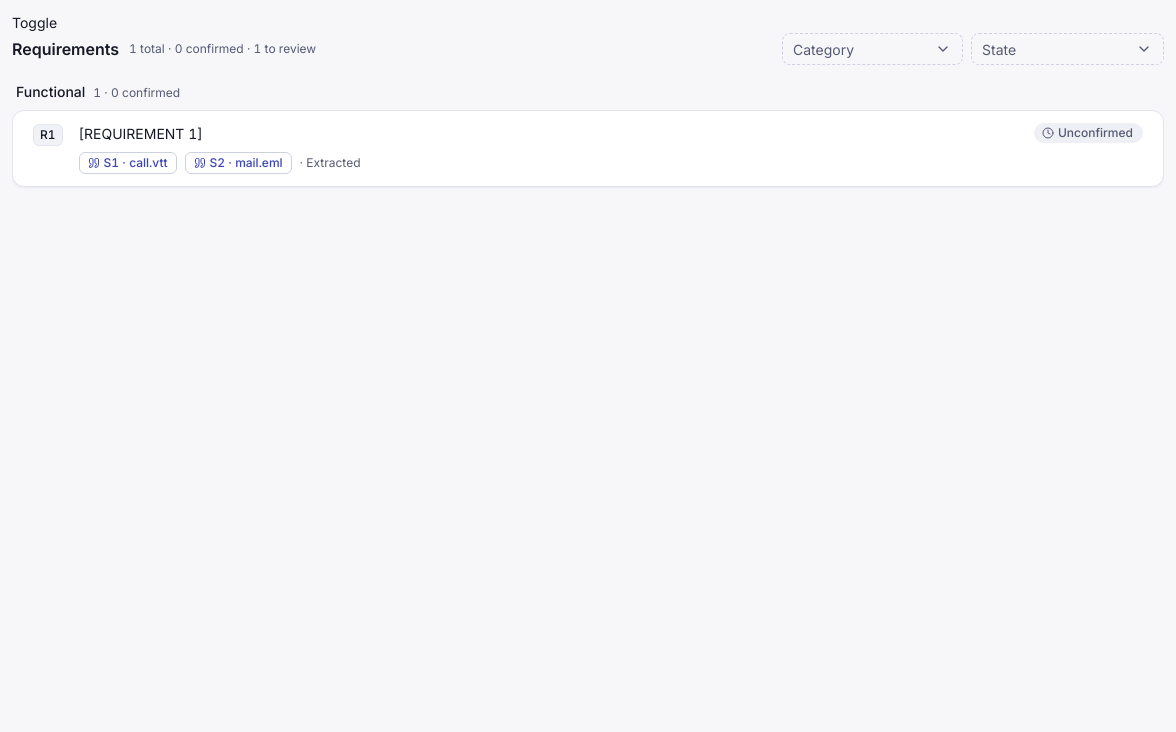
Test case: Requirements list and Evidence inspector › a 404 says the passage is no longer available
The image size is (1176, 732).
Click the button "[REQUIREMENT 1]" at [141, 134], box top-left (79, 123), bottom-right (1018, 144)
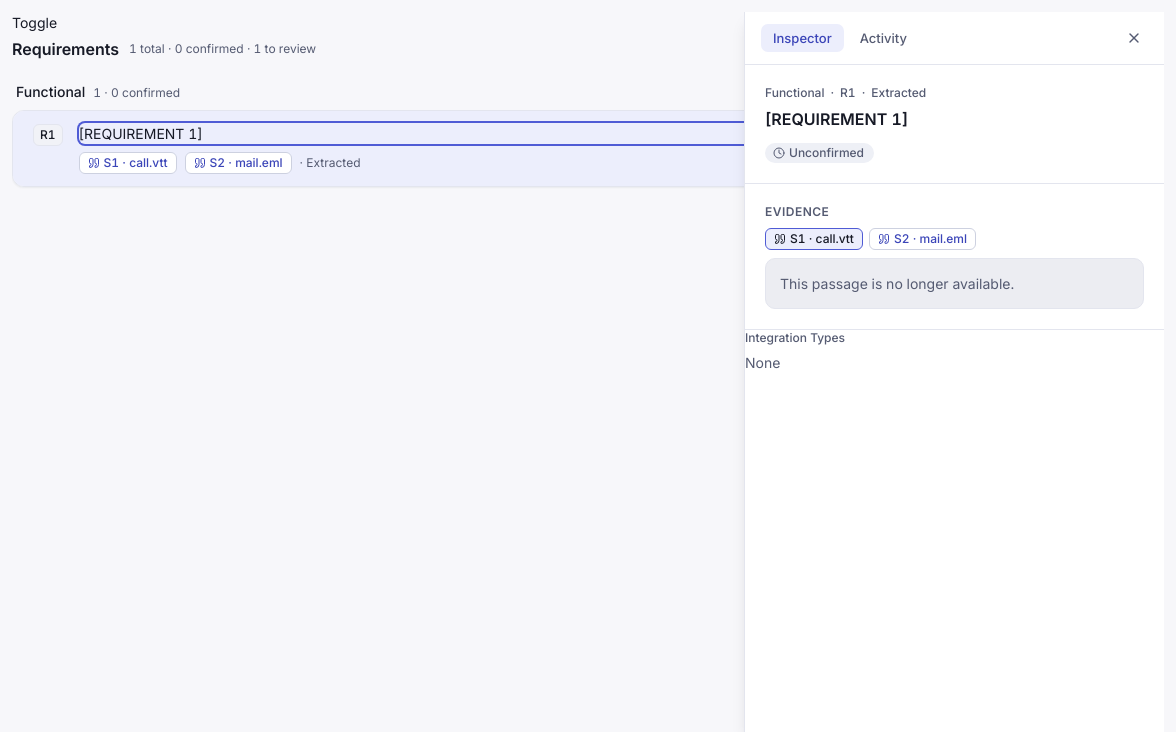
Check: the text "This passage is no longer available." is shown, box top-left (780, 275), bottom-right (1014, 292)
